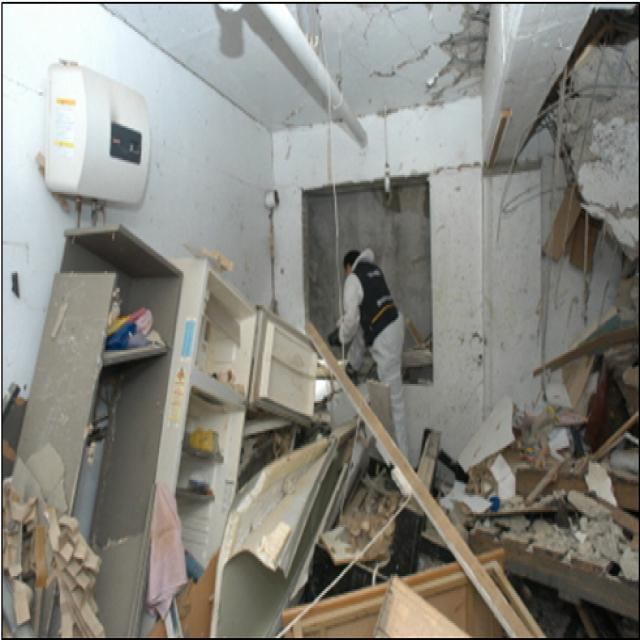Boiler: (19, 68, 169, 228)
